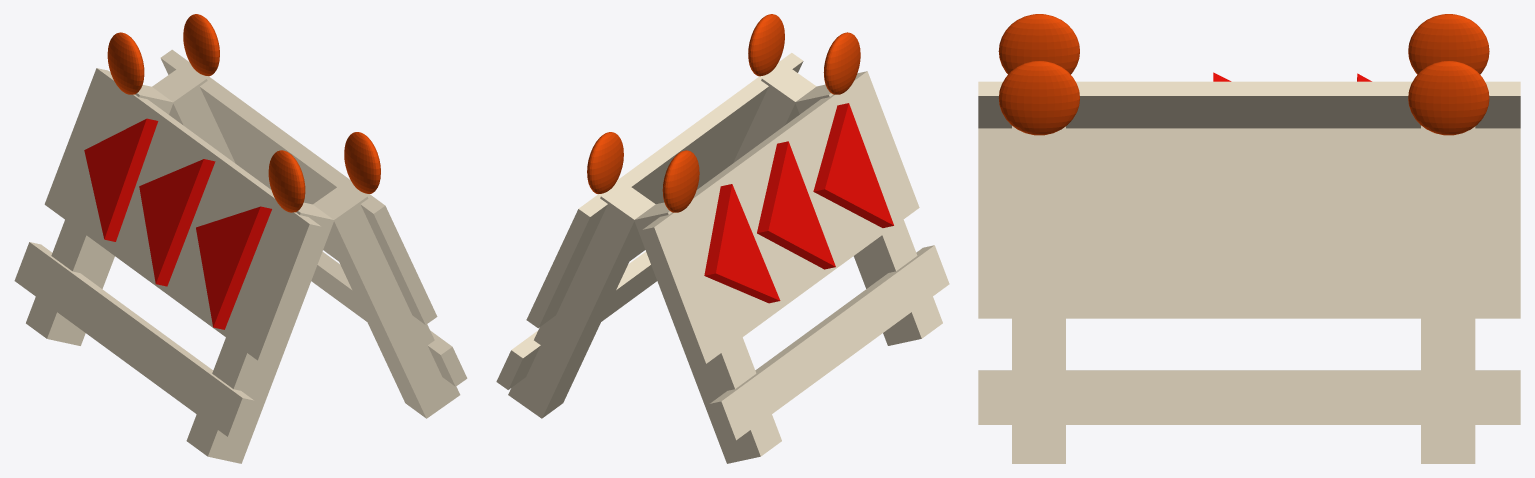
File: Barricade_arrow.fbx
3 renders of one model, left to right at view 1: azimuth 30°, elevation 25°; view 2: azimuth 150°, elevation 25°; view 3: azimuth 270°, elevation 25°, orthographic. The views are drawn at different scales.
Parts seen in each view (by area): view 1: ArrowBarricade; view 2: ArrowBarricade; view 3: ArrowBarricade.
Boxes of the visible parts, x1,y1,x2,y2 form: ArrowBarricade: [14, 14, 467, 463]; ArrowBarricade: [496, 14, 949, 463]; ArrowBarricade: [978, 14, 1520, 463].
Bounding box in the file's own units: 274 × 300 × 400.
